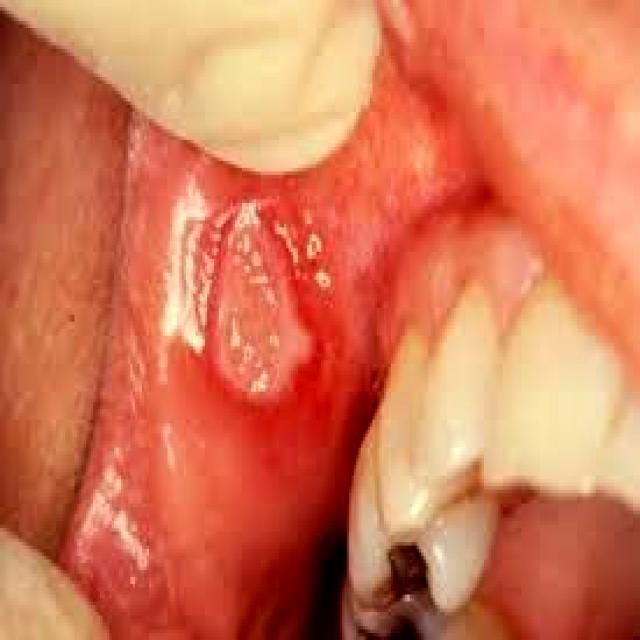ulcer: (212, 203, 314, 399)
